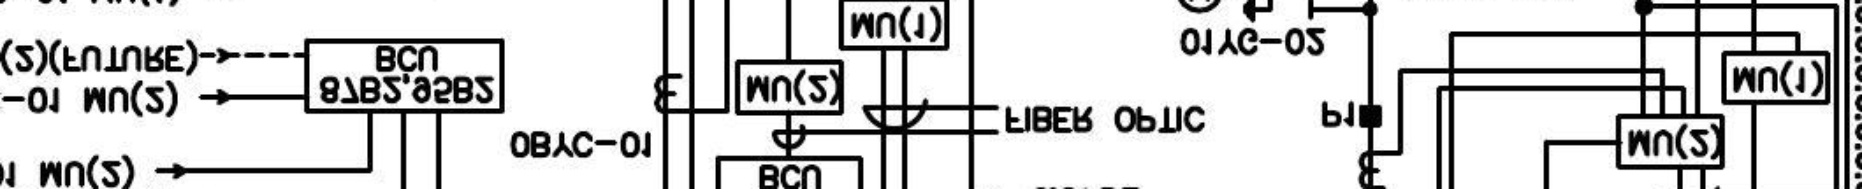MU: (734, 58, 845, 116), (1615, 113, 1725, 170), (1721, 50, 1831, 106)
